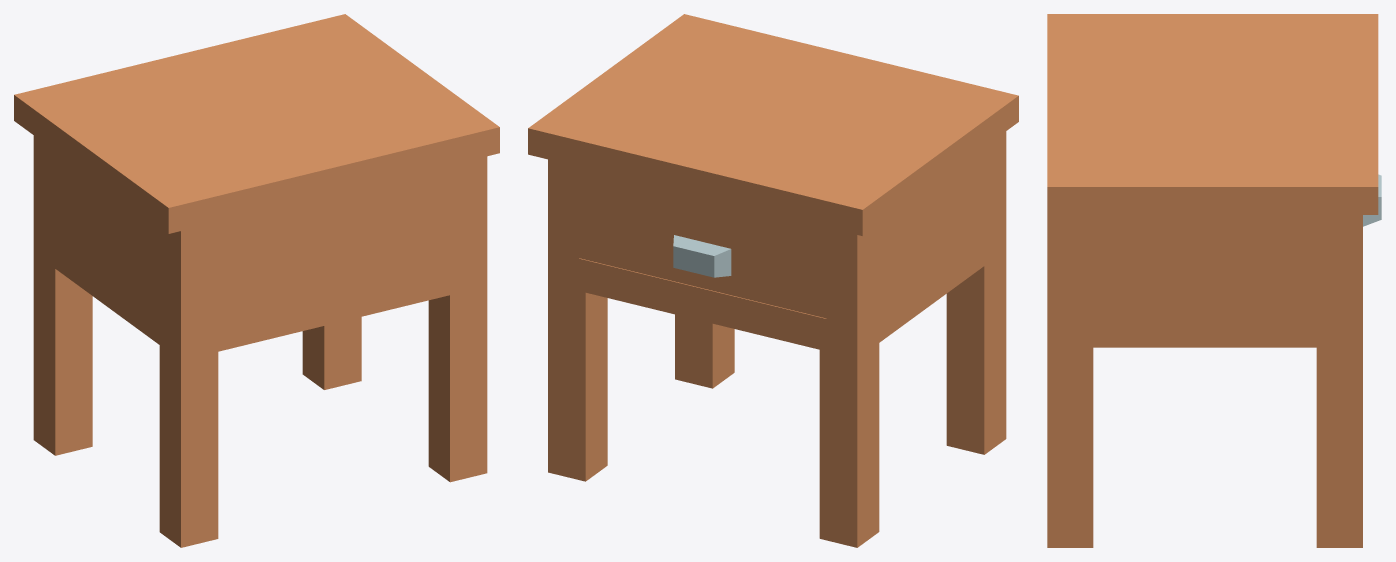
The model's file is cabinetBedDrawerTable.obj.
3 renders of one model, left to right at view 1: azimuth 30°, elevation 25°; view 2: azimuth 150°, elevation 25°; view 3: azimuth 270°, elevation 25°, orthographic. The views are drawn at different scales.
Visible parts, largest first — view 1: cabinetBedDrawerTable; view 2: cabinetBedDrawerTable, drawer; view 3: cabinetBedDrawerTable.
Boxes of the visible parts, x1,y1,x2,y2 form: cabinetBedDrawerTable: [14, 14, 499, 547]; cabinetBedDrawerTable: [528, 14, 1018, 547]; drawer: [579, 192, 826, 318]; cabinetBedDrawerTable: [1047, 14, 1378, 547].
Bounding box in the file's own units: 0.266 × 0.2632 × 0.2173.
